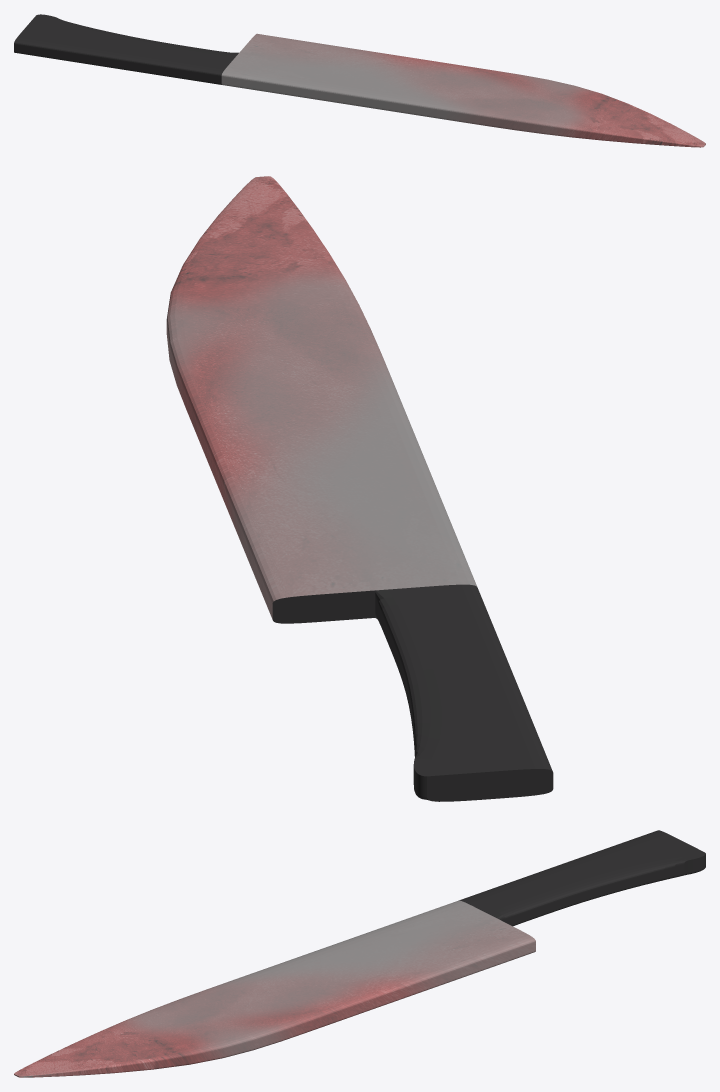
File: knife.fbx
The picture shows the model from 3 angles, top to bottom: view 1: azimuth 30°, elevation 25°; view 2: azimuth 150°, elevation 25°; view 3: azimuth 270°, elevation 25°; orthographic projection. The views are drawn at different scales.
Visible parts, largest first — view 1: Knife; view 2: Knife; view 3: Knife.
Part boxes in pixels (bbox=[...]): Knife: bbox=[14, 14, 705, 147]; Knife: bbox=[166, 176, 553, 801]; Knife: bbox=[14, 830, 705, 1077].
Bounding box in the file's own units: 0.5056 × 0.0158 × 0.6139.
